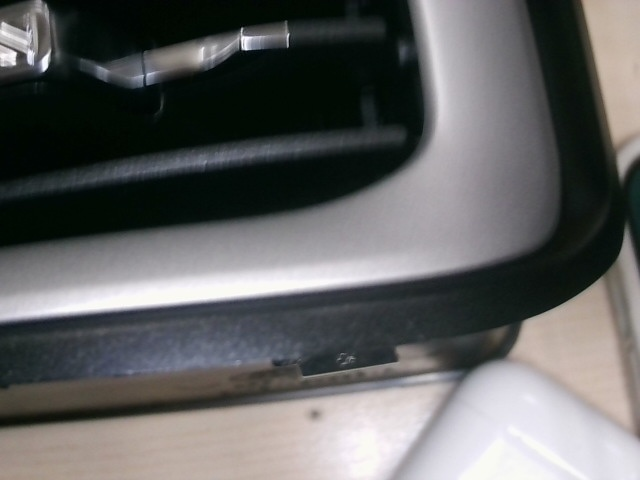NG: (398, 314, 436, 350)
